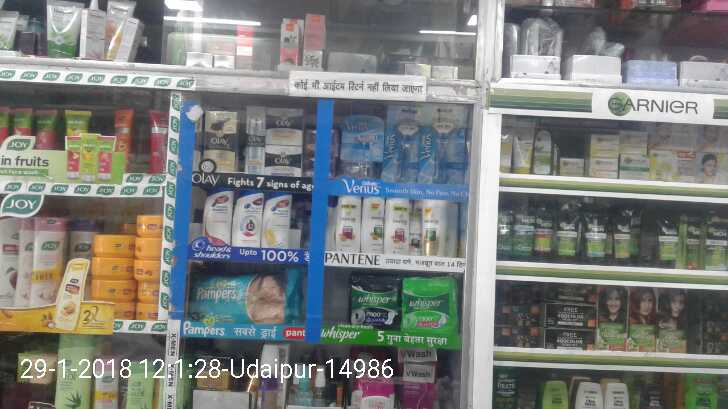venus: (387, 106, 429, 186), (429, 107, 469, 186), (337, 116, 384, 176)
